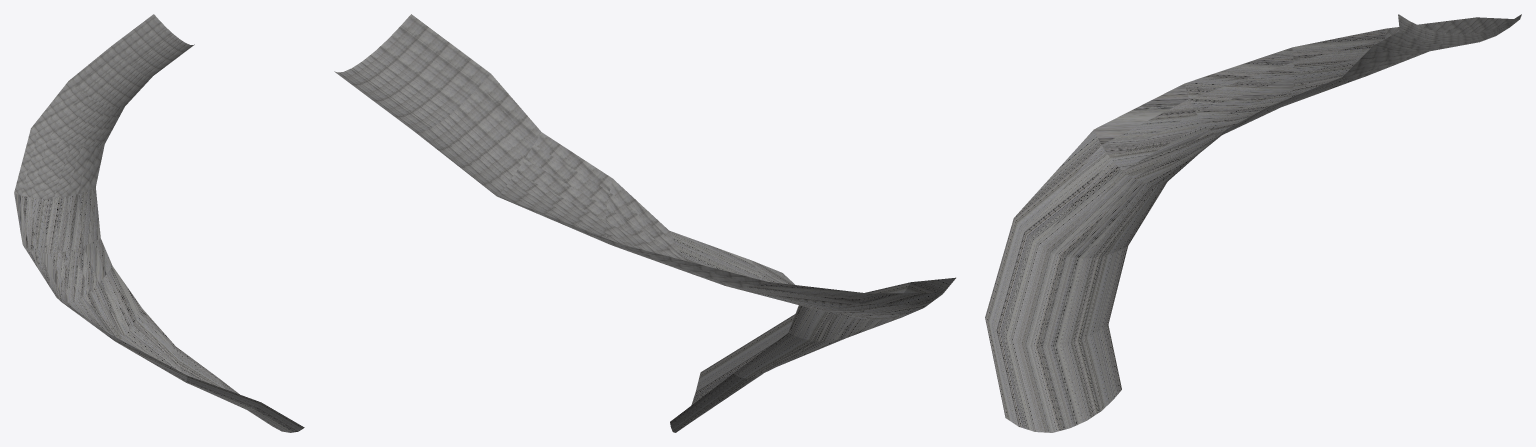
The model's file is SM_ICE_02_02.fbx.
3 views of the same model, side by side, from view 1: azimuth 30°, elevation 25°; view 2: azimuth 150°, elevation 25°; view 3: azimuth 270°, elevation 25° (orthographic). The views are drawn at different scales.
Parts seen in each view (by area): view 1: SM_ICE_02_02, SM_ICE_02_02.001; view 2: SM_ICE_02_02, SM_ICE_02_02.001; view 3: SM_ICE_02_02, SM_ICE_02_02.001.
Part boxes in pixels (bbox=[...]): SM_ICE_02_02: bbox=[14, 14, 304, 432]; SM_ICE_02_02.001: bbox=[176, 347, 260, 410]; SM_ICE_02_02: bbox=[334, 14, 955, 432]; SM_ICE_02_02.001: bbox=[733, 282, 910, 378]; SM_ICE_02_02: bbox=[985, 14, 1521, 432]; SM_ICE_02_02.001: bbox=[985, 218, 1127, 346].
Size of the model in its own units: 4978 by 6511 by 7195.
